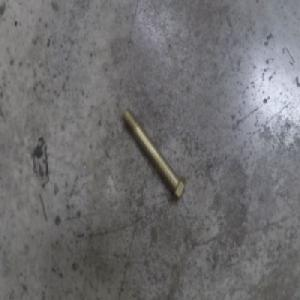Bolt: (121, 107, 186, 202)
